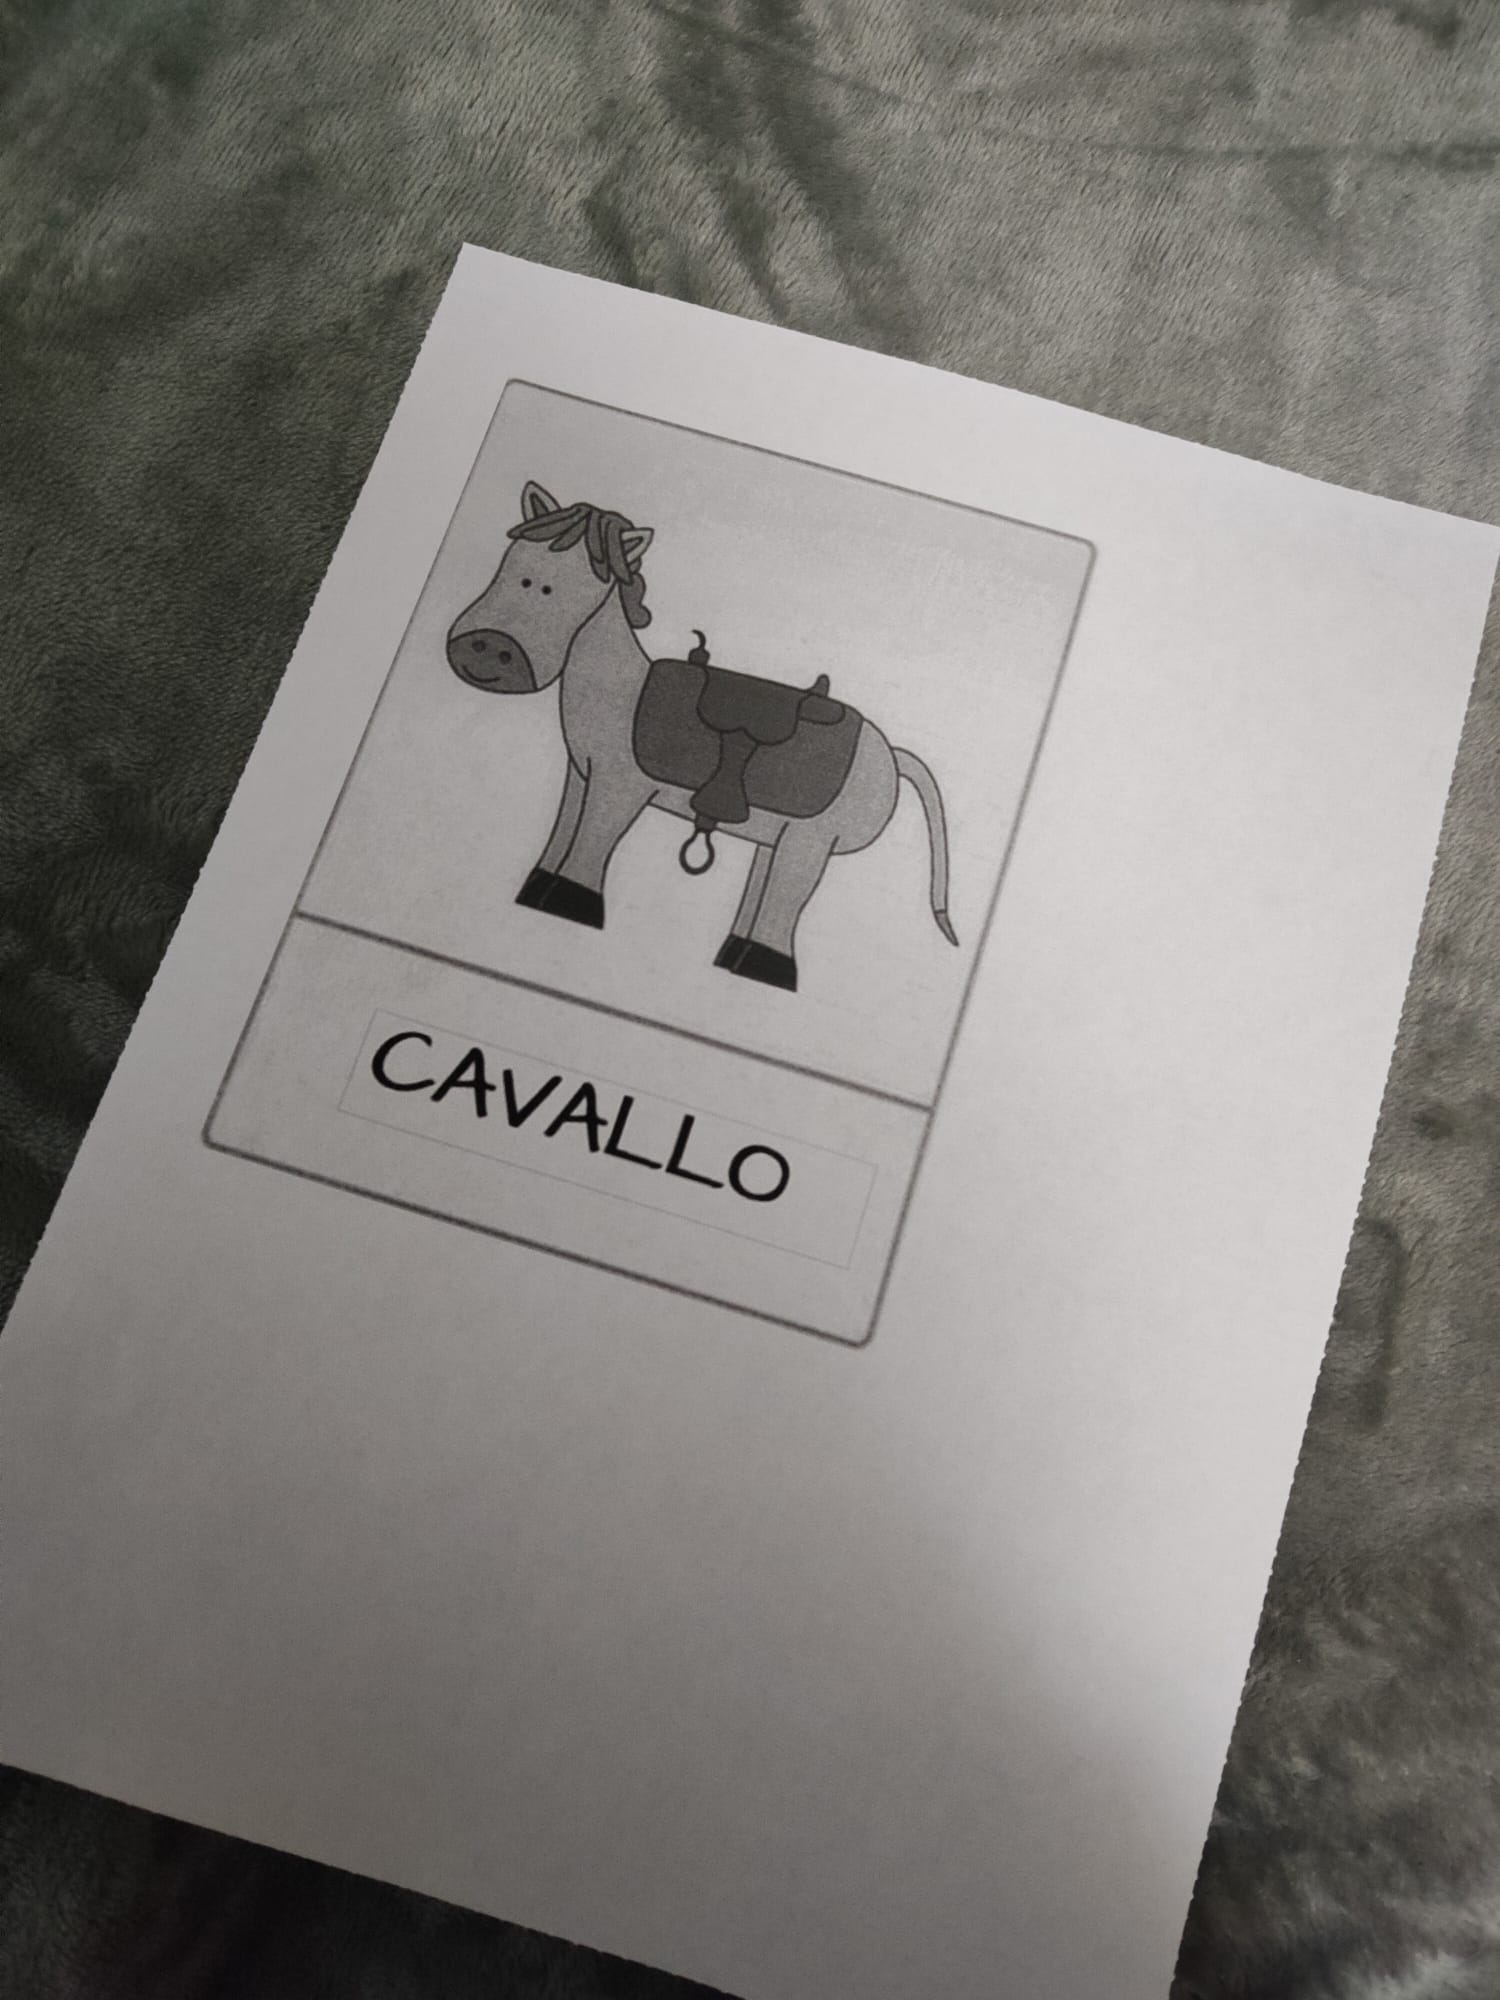cavallo: (308, 351, 979, 1264)
